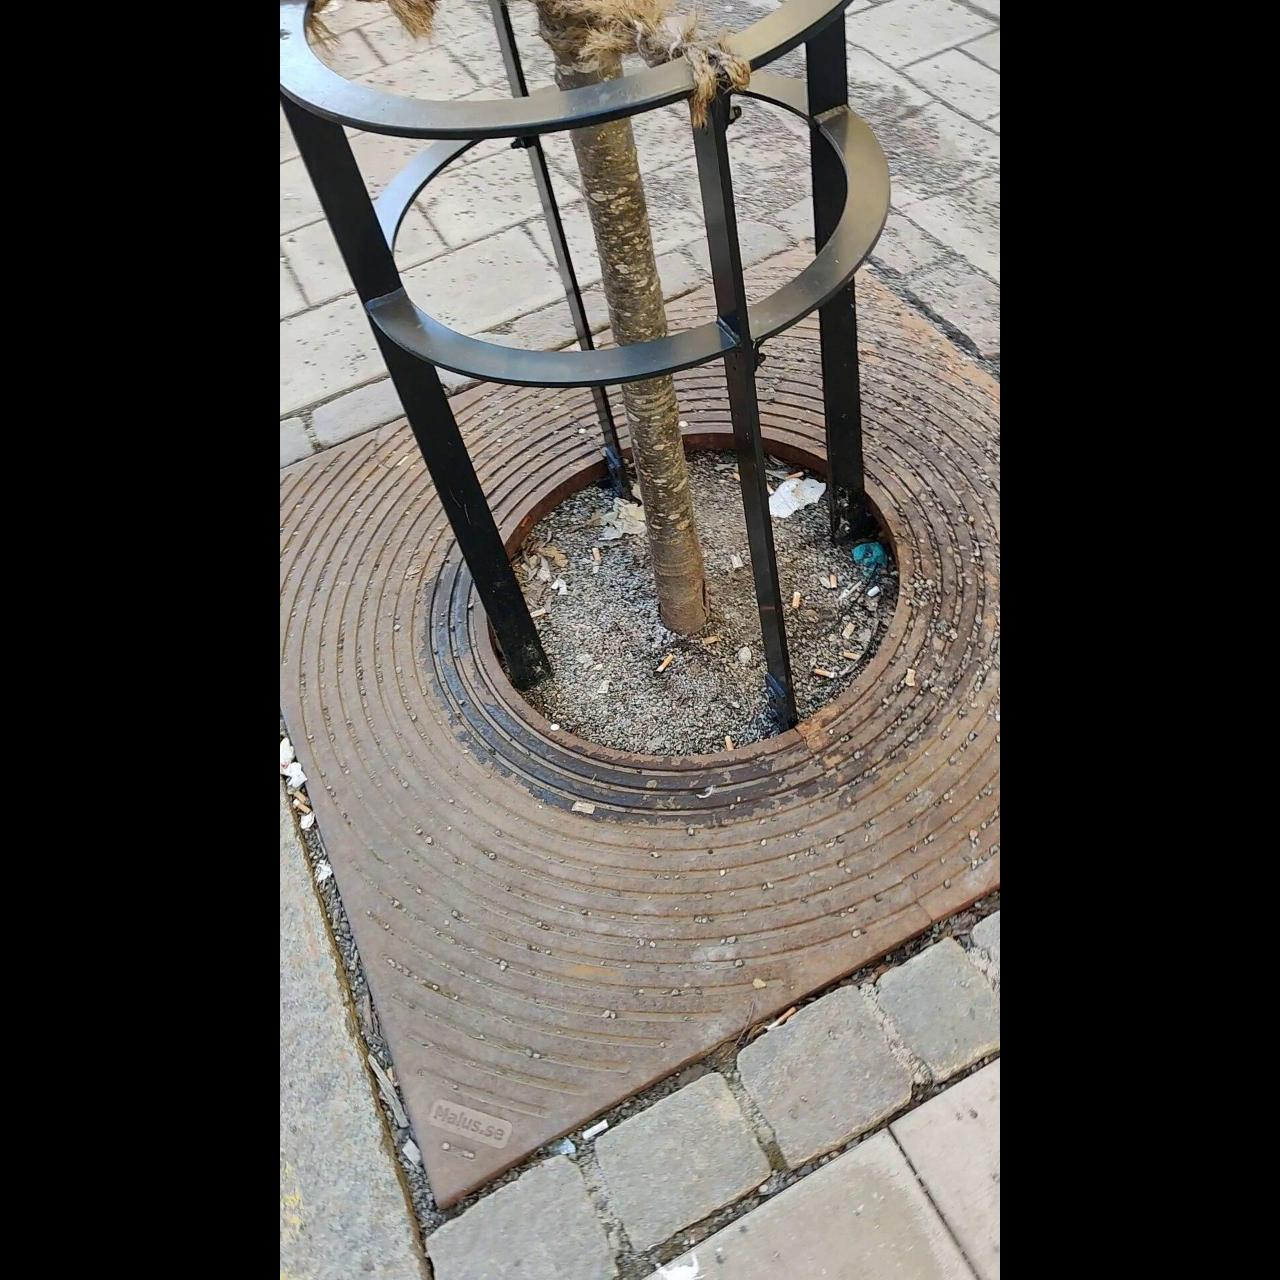cigarettes_butts: (763, 1008, 795, 1032), (584, 1121, 610, 1143), (654, 652, 672, 676), (807, 668, 835, 682), (530, 605, 552, 617), (290, 799, 308, 813), (725, 729, 735, 753), (790, 593, 801, 613), (843, 651, 859, 663), (590, 545, 602, 559), (829, 571, 837, 585), (292, 787, 302, 797)
others: (570, 800, 598, 812), (904, 668, 918, 688)
